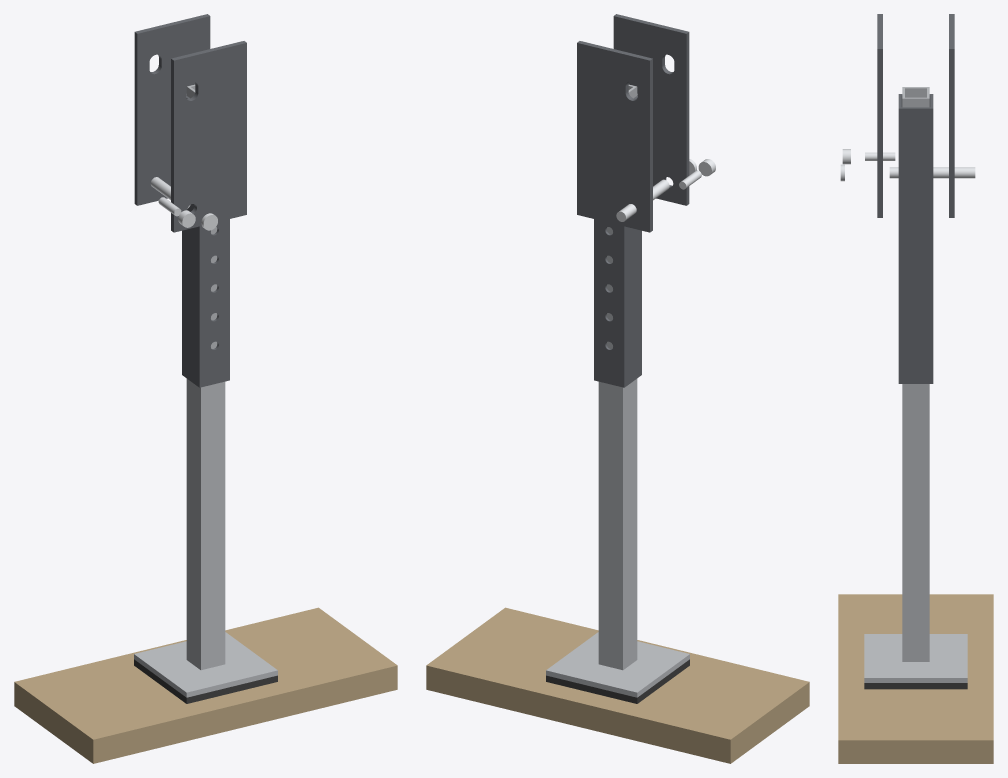
Rendered from leg_A0.glb.
3 views of the same model, side by side, from view 1: azimuth 30°, elevation 25°; view 2: azimuth 150°, elevation 25°; view 3: azimuth 270°, elevation 25° (orthographic).
Parts seen in each view (by area): view 1: =>[0:1:1:17], =>[0:1:1:13], =>[0:1:1:10], =>[0:1:1:11], =>[0:1:1:12], =>[0:1:1:15]; view 2: =>[0:1:1:17], =>[0:1:1:13], =>[0:1:1:11], =>[0:1:1:10], =>[0:1:1:12], =>[0:1:1:15]; view 3: =>[0:1:1:17], =>[0:1:1:13], =>[0:1:1:12], =>[0:1:1:10], =>[0:1:1:11], =>[0:1:1:15], =>[0:1:1:4].
Boxes of the visible parts, bbox=[...] form: =>[0:1:1:17]: bbox=[14, 607, 397, 763]; =>[0:1:1:13]: bbox=[134, 84, 277, 697]; =>[0:1:1:10]: bbox=[171, 41, 246, 232]; =>[0:1:1:11]: bbox=[134, 14, 210, 205]; =>[0:1:1:12]: bbox=[182, 93, 229, 387]; =>[0:1:1:15]: bbox=[134, 659, 277, 703]; =>[0:1:1:17]: bbox=[426, 607, 809, 763]; =>[0:1:1:13]: bbox=[546, 84, 689, 697]; =>[0:1:1:11]: bbox=[577, 41, 652, 232]; =>[0:1:1:10]: bbox=[613, 14, 689, 205]; =>[0:1:1:12]: bbox=[594, 93, 641, 387]; =>[0:1:1:15]: bbox=[546, 659, 689, 703]; =>[0:1:1:17]: bbox=[838, 594, 993, 763]; =>[0:1:1:13]: bbox=[864, 87, 967, 682]; =>[0:1:1:12]: bbox=[898, 94, 933, 383]; =>[0:1:1:10]: bbox=[877, 14, 882, 217]; =>[0:1:1:11]: bbox=[949, 14, 954, 217]; =>[0:1:1:15]: bbox=[864, 683, 967, 689]; =>[0:1:1:4]: bbox=[889, 167, 975, 178].
Size of the model in its own units: 0.5 by 1.04 by 0.225.
